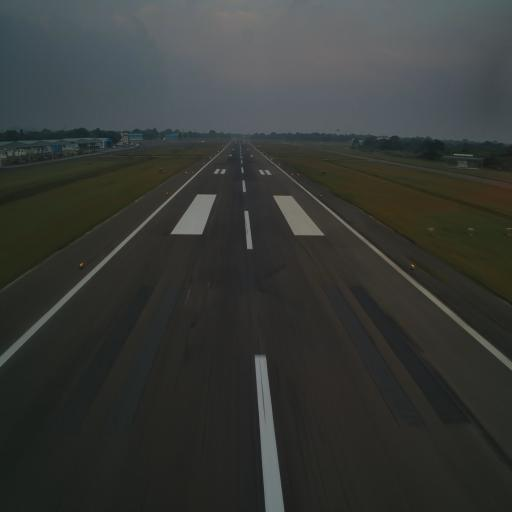on: (78, 259, 85, 269), (410, 260, 415, 272), (320, 192, 323, 200), (166, 190, 169, 196)
